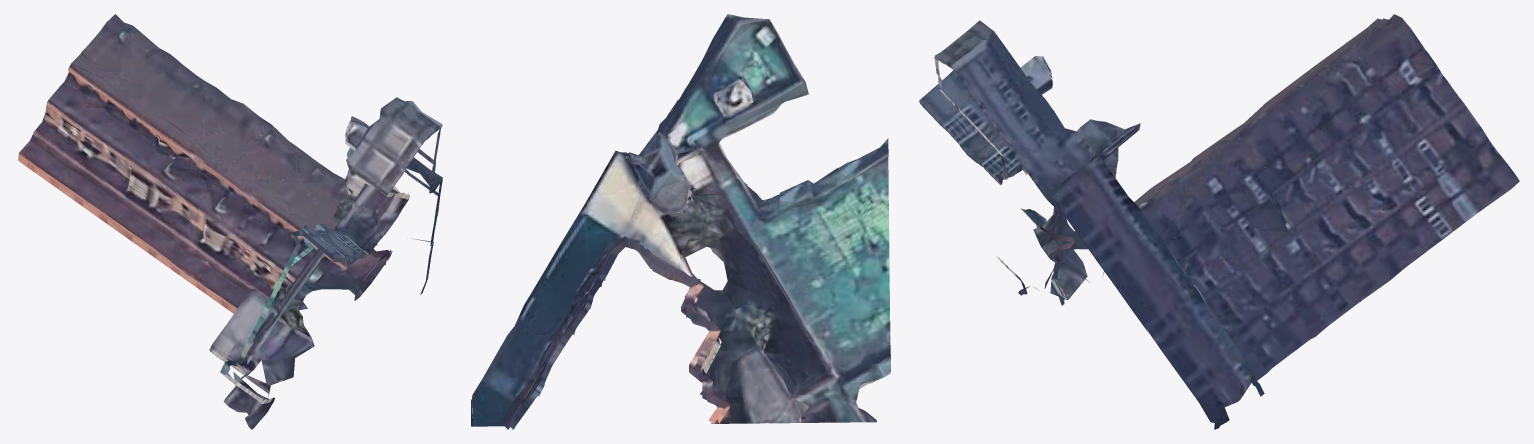
3 renders of one model, left to right at view 1: azimuth 30°, elevation 25°; view 2: azimuth 150°, elevation 25°; view 3: azimuth 270°, elevation 25°, orthographic. The views are drawn at different scales.
Size of the model in its own units: 34.73 by 32.67 by 53.36.
2 materials, 2 textured.
